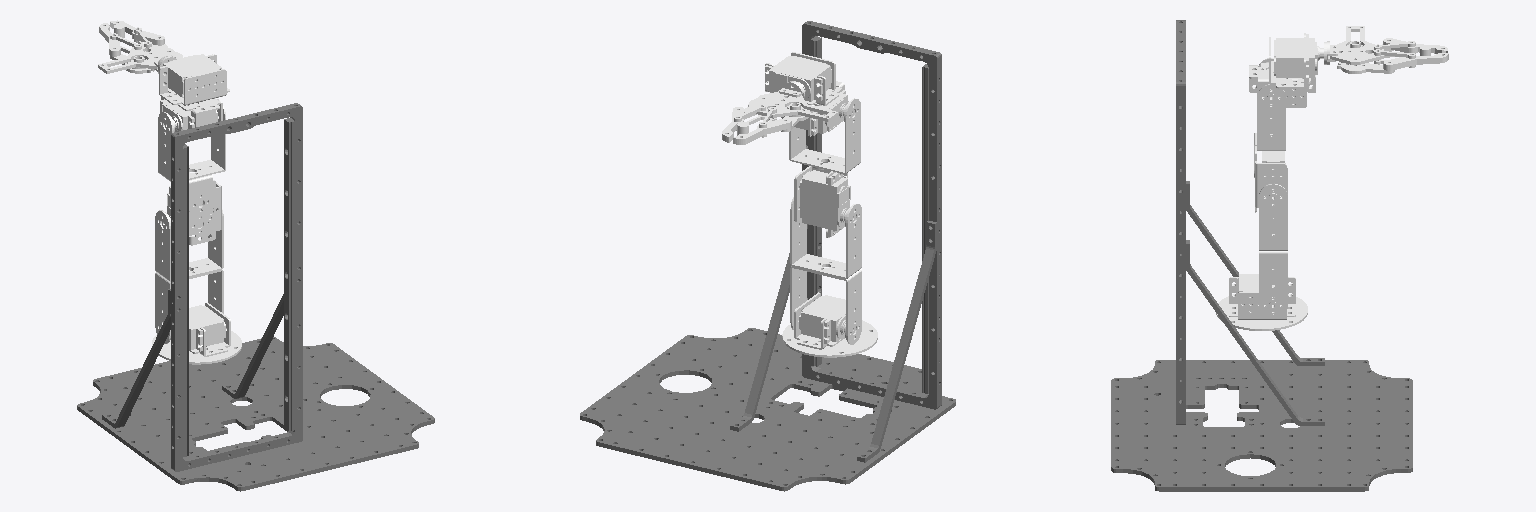
URDF robot description (easyarm_description):
<?xml version="1.0" encoding="utf-8"?>
<!-- This URDF was automatically created by SolidWorks to URDF Exporter! Originally created by [author] ([email redacted]) 
     Commit Version: 1.6.0-4-g7f85cfe  Build Version: 1.6.7995.38578
     For more information, please see http://wiki.ros.org/sw_urdf_exporter -->
<robot
  name="easyarm_description">
  <link
    name="base_link">
    <inertial>
      <origin
        xyz="-0.00010017 -0.043183 0.019173"
        rpy="0 0 0" />
      <mass
        value="0.28718" />
      <inertia
        ixx="0.001373"
        ixy="-5.0799E-09"
        ixz="-6.523E-15"
        iyy="0.0003812"
        iyz="1.6475E-13"
        izz="0.0017481" />
    </inertial>
    <visual>
      <origin
        xyz="0 0 0"
        rpy="0 0 0" />
      <geometry>
        <mesh
          filename="package://easyarm_description/meshes/base_link.STL" />
      </geometry>
      <material
        name="">
        <color
          rgba="0.56471 0.56471 0.56471 1" />
      </material>
    </visual>
    <collision>
      <origin
        xyz="0 0 0"
        rpy="0 0 0" />
      <geometry>
        <mesh
          filename="package://easyarm_description/meshes/base_link.STL" />
      </geometry>
    </collision>
  </link>
  <link
    name="link1">
    <inertial>
      <origin
        xyz="0.0014573 0.00059152 0.0027287"
        rpy="0 0 0" />
      <mass
        value="0.015583" />
      <inertia
        ixx="5.6364E-06"
        ixy="-1.3657E-11"
        ixz="-1.5297E-07"
        iyy="5.1391E-06"
        iyz="-2.0972E-12"
        izz="1.0016E-05" />
    </inertial>
    <visual>
      <origin
        xyz="0 0 0"
        rpy="0 0 0" />
      <geometry>
        <mesh
          filename="package://easyarm_description/meshes/link1.STL" />
      </geometry>
      <material
        name="">
        <color
          rgba="1 1 1 1" />
      </material>
    </visual>
    <collision>
      <origin
        xyz="0 0 0"
        rpy="0 0 0" />
      <geometry>
        <mesh
          filename="package://easyarm_description/meshes/link1.STL" />
      </geometry>
    </collision>
  </link>
  <joint
    name="joint1"
    type="revolute">
    <origin
      xyz="0 0 0.0805"
      rpy="0 0 0" />
    <parent
      link="base_link" />
    <child
      link="link1" />
    <axis
      xyz="0 0 1" />
    <limit
      lower="-1.57"
      upper="1.57"
      effort="50"
      velocity="10" />
  </joint>
  <link
    name="link2">
    <inertial>
      <origin
        xyz="-1.0327E-06 -0.0515 -0.023674"
        rpy="0 0 0" />
      <mass
        value="0.014338" />
      <inertia
        ixx="1.1814E-05"
        ixy="-4.7435E-14"
        ixz="-7.1639E-15"
        iyy="7.681E-06"
        iyz="-3.4688E-14"
        izz="5.5188E-06" />
    </inertial>
    <visual>
      <origin
        xyz="0 0 0"
        rpy="0 0 0" />
      <geometry>
        <mesh
          filename="package://easyarm_description/meshes/link2.STL" />
      </geometry>
      <material
        name="">
        <color
          rgba="1 1 1 1" />
      </material>
    </visual>
    <collision>
      <origin
        xyz="0 0 0"
        rpy="0 0 0" />
      <geometry>
        <mesh
          filename="package://easyarm_description/meshes/link2.STL" />
      </geometry>
    </collision>
  </link>
  <joint
    name="joint2"
    type="revolute">
    <origin
      xyz="-0.028 0.00975 0.0155"
      rpy="-1.5708 0 1.5708" />
    <parent
      link="link1" />
    <child
      link="link2" />
    <axis
      xyz="0 0 1" />
    <limit
      lower="-1.57"
      upper="1.57"
      effort="50"
      velocity="10" />
  </joint>
  <link
    name="link3">
    <inertial>
      <origin
        xyz="-0.0046954 -0.04057 -0.028731"
        rpy="0 0 0" />
      <mass
        value="0.015148" />
      <inertia
        ixx="8.4037E-06"
        ixy="9.0853E-08"
        ixz="1.5295E-07"
        iyy="5.2411E-06"
        iyz="-4.5315E-12"
        izz="4.8414E-06" />
    </inertial>
    <visual>
      <origin
        xyz="0 0 0"
        rpy="0 0 0" />
      <geometry>
        <mesh
          filename="package://easyarm_description/meshes/link3.STL" />
      </geometry>
      <material
        name="">
        <color
          rgba="1 1 1 1" />
      </material>
    </visual>
    <collision>
      <origin
        xyz="0 0 0"
        rpy="0 0 0" />
      <geometry>
        <mesh
          filename="package://easyarm_description/meshes/link3.STL" />
      </geometry>
    </collision>
  </link>
  <joint
    name="joint3"
    type="revolute">
    <origin
      xyz="0 -0.103 0"
      rpy="0 0 0" />
    <parent
      link="link2" />
    <child
      link="link3" />
    <axis
      xyz="0 0 1" />
    <limit
      lower="-1.57"
      upper="1.57"
      effort="50"
      velocity="10" />
  </joint>
  <link
    name="link4">
    <inertial>
      <origin
        xyz="0.03437 0.051826 -0.029735"
        rpy="0 0 0" />
      <mass
        value="0.029851" />
      <inertia
        ixx="8.8322E-06"
        ixy="-6.3709E-07"
        ixz="-1.472E-07"
        iyy="4.9673E-06"
        iyz="4.3872E-08"
        izz="5.6598E-06" />
    </inertial>
    <visual>
      <origin
        xyz="0 0 0"
        rpy="0 0 0" />
      <geometry>
        <mesh
          filename="package://easyarm_description/meshes/link4.STL" />
      </geometry>
      <material
        name="">
        <color
          rgba="1 1 1 1" />
      </material>
    </visual>
    <collision>
      <origin
        xyz="0 0 0"
        rpy="0 0 0" />
      <geometry>
        <mesh
          filename="package://easyarm_description/meshes/link4.STL" />
      </geometry>
    </collision>
  </link>
  <joint
    name="joint4"
    type="revolute">
    <origin
      xyz="-0.0015167 -0.09565 -0.002"
      rpy="0 0 -1.3739" />
    <parent
      link="link3" />
    <child
      link="link4" />
    <axis
      xyz="0 0 1" />
    <limit
      lower="-1.57"
      upper="1.57"
      effort="50"
      velocity="10" />
  </joint>
  <link
    name="grapper">
    <inertial>
      <origin
        xyz="2.1684E-19 0 0.005"
        rpy="0 0 0" />
      <mass
        value="0.0007854" />
      <inertia
        ixx="1.1454E-08"
        ixy="1.3786E-25"
        ixz="4.8385E-25"
        iyy="1.1454E-08"
        iyz="-1.0793E-25"
        izz="9.8175E-09" />
    </inertial>
    <visual>
      <origin
        xyz="0 0 0"
        rpy="0 0 0" />
      <geometry>
        <mesh
          filename="package://easyarm_description/meshes/grapper.STL" />
      </geometry>
      <material
        name="">
        <color
          rgba="1 1 1 1" />
      </material>
    </visual>
    <collision>
      <origin
        xyz="0 0 0"
        rpy="0 0 0" />
      <geometry>
        <mesh
          filename="package://easyarm_description/meshes/grapper.STL" />
      </geometry>
    </collision>
  </link>
  <joint
    name="joint5"
    type="fixed">
    <origin
      xyz="0.051784 0.12492 -0.028346"
      rpy="0.19687 1.5708 0" />
    <parent
      link="link4" />
    <child
      link="grapper" />
    <axis
      xyz="0 0 0" />
  </joint>
</robot>

--- Render facts (derived) ---
Views: 3 orthographic renders of the robot side by side, from view 1: azimuth 30°, elevation 25°; view 2: azimuth 150°, elevation 25°; view 3: azimuth 270°, elevation 25°.
Model easyarm_description with 6 links and 5 joints (4 revolute, 1 fixed), rooted at base_link, posed every joint at zero.
Visible links, largest first — view 1: base_link, link4, link3, link2, link1; view 2: base_link, link4, link3, link2, link1; view 3: base_link, link4, link2, link3, link1.
Boxes of the visible links, bbox=[...] form: base_link: bbox=[77, 103, 434, 491]; link4: bbox=[98, 20, 229, 131]; link3: bbox=[158, 99, 225, 245]; link2: bbox=[155, 209, 223, 343]; link1: bbox=[152, 303, 241, 364]; base_link: bbox=[580, 21, 955, 491]; link4: bbox=[722, 52, 853, 144]; link3: bbox=[789, 98, 860, 237]; link2: bbox=[790, 197, 861, 344]; link1: bbox=[782, 292, 877, 357]; base_link: bbox=[1111, 20, 1412, 491]; link4: bbox=[1249, 26, 1448, 107]; link2: bbox=[1259, 163, 1287, 318]; link3: bbox=[1254, 58, 1285, 212]; link1: bbox=[1216, 274, 1307, 330].
Bounding box of the posed robot: 0.26 × 0.2909 × 0.3407 m (x, y, z).
Meshes: 6 distinct files referenced, 6 mesh visuals loaded (6 binary STL).